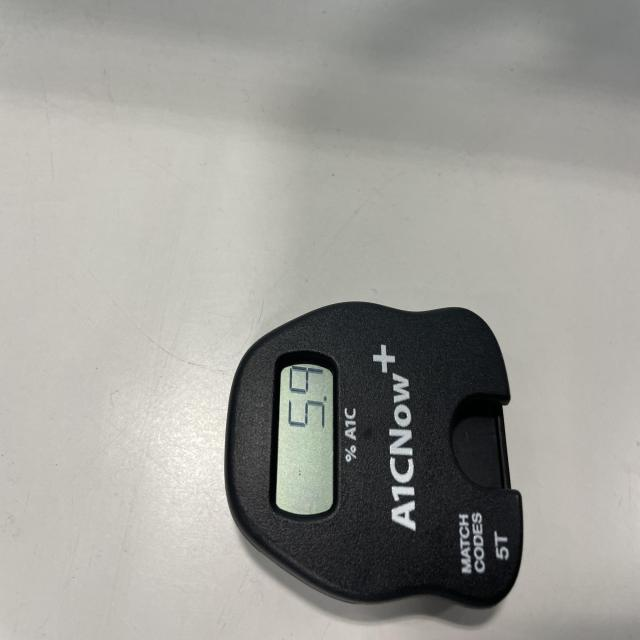hba1c: (223, 302, 525, 611)
